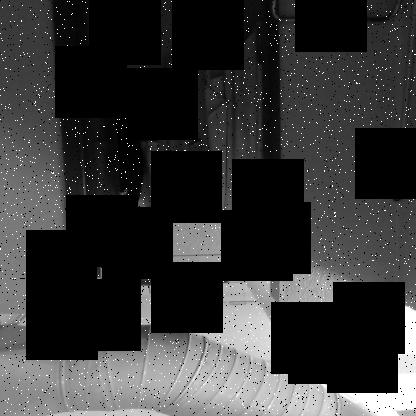Porte: (54, 0, 282, 290)
